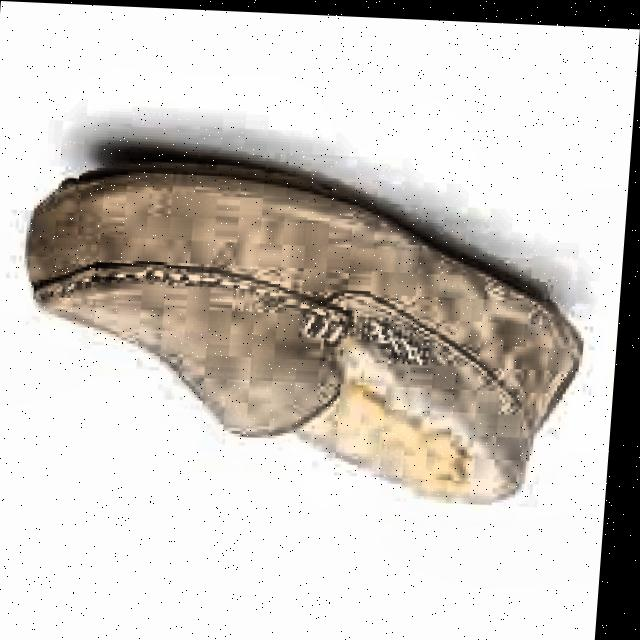shoes: (4, 143, 600, 513)
